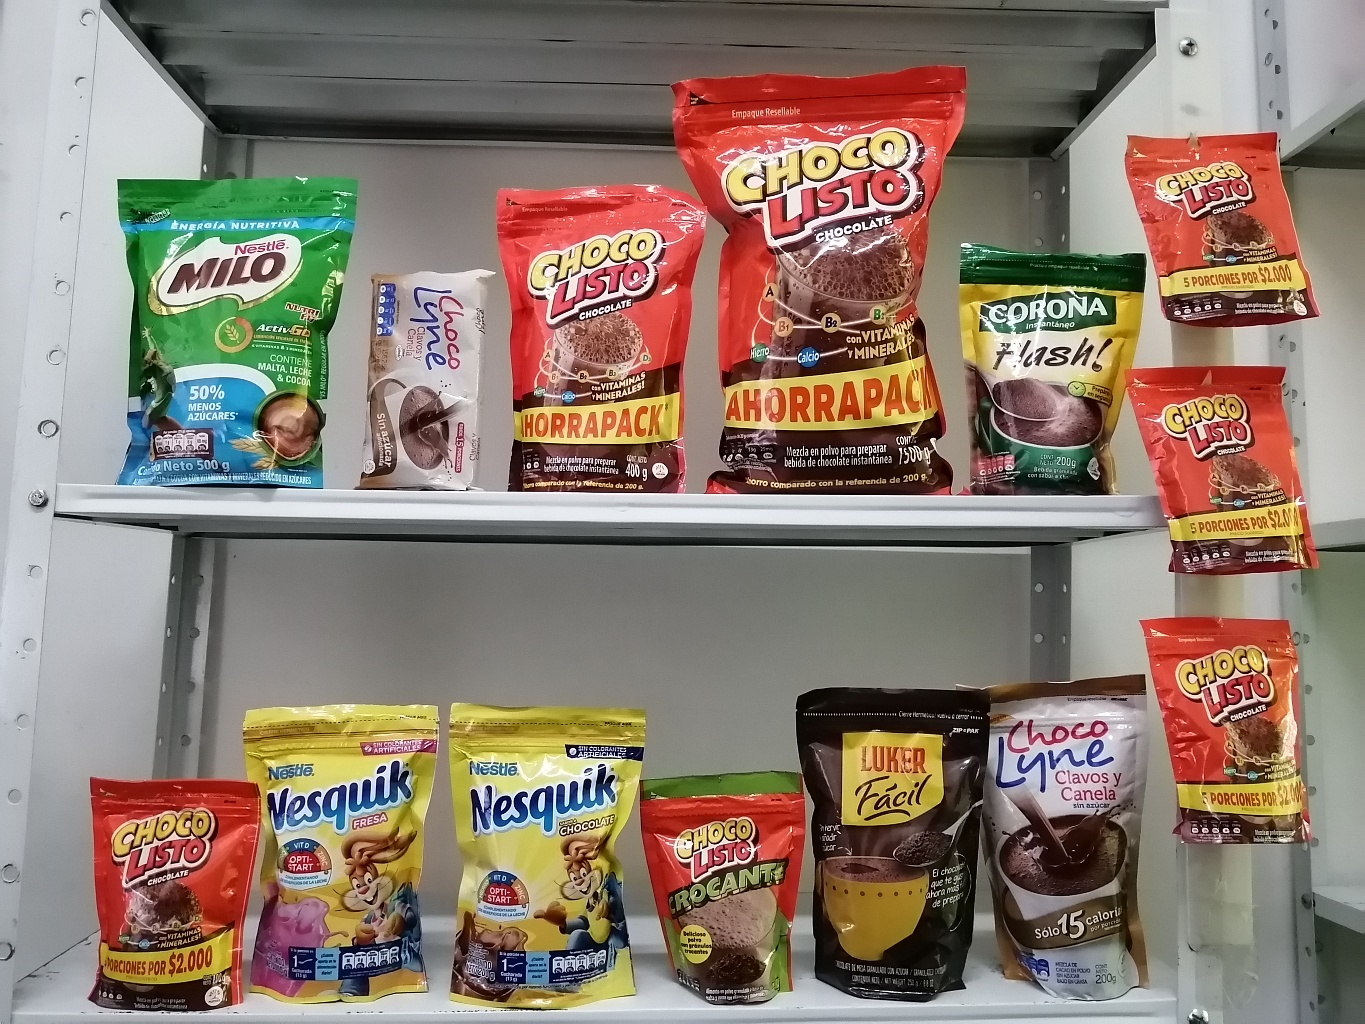COL0170102DYP10000: (635, 766, 813, 1002)
COL0170103DYP1,500: (670, 54, 991, 487)
COL0170103DYP10000: (86, 776, 269, 1009)
COL0170103DYP40000: (485, 181, 712, 495)
COL0170205DYP50000: (115, 179, 350, 493)
COL0170303DYP20000: (450, 703, 660, 1011)
COL0170305DYP20000: (244, 701, 442, 1005)
